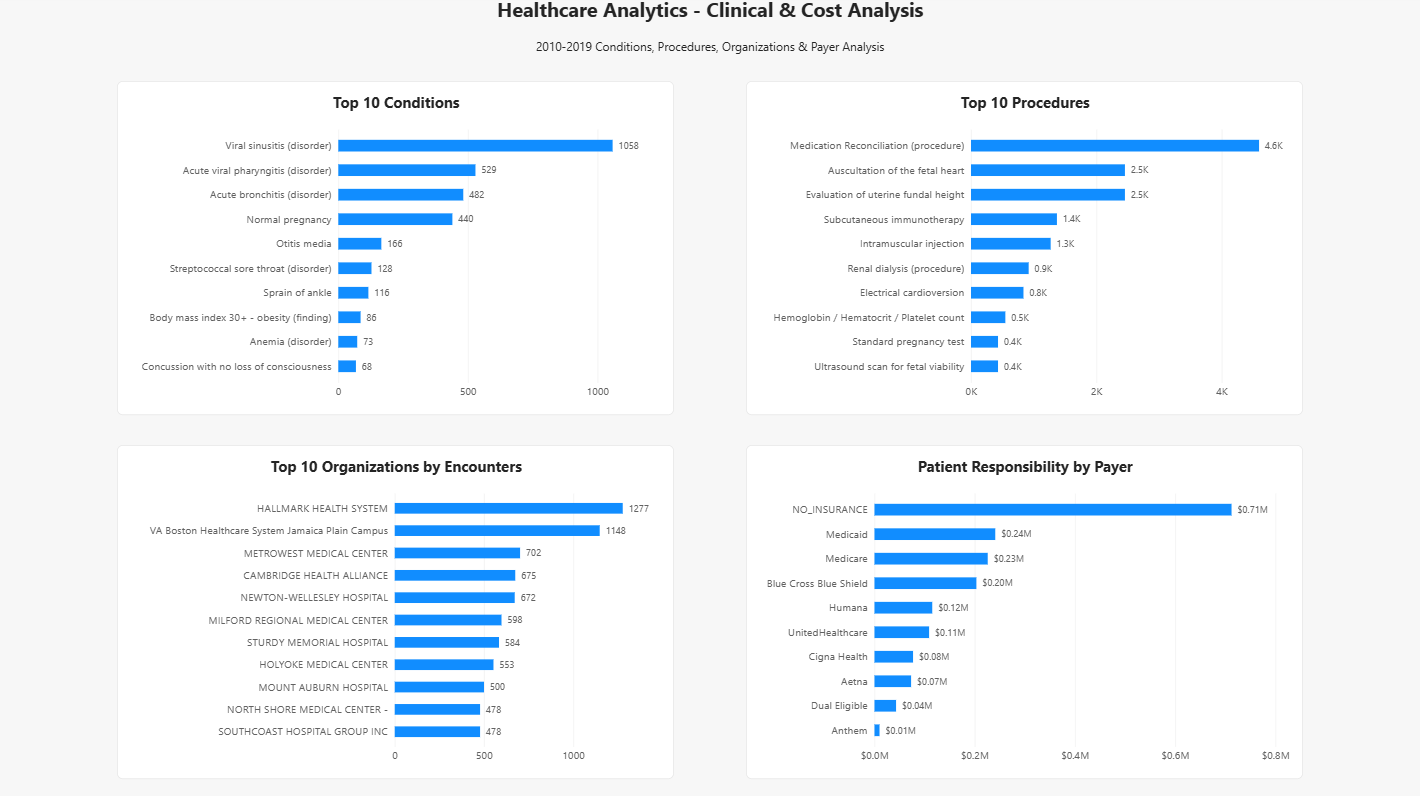

Layout of this report page (visuals, bound fields, positions):
{"tool":"powerbi","page":{"name":"Clinical & Cost Analysis","canvas":[1920,1080],"ordinal":1},"visuals":[{"type":"barChart","title":"Top 10 Conditions","fields":{"Category":["gold_condition_analysis.CONDITION"],"Y":["Sum(gold_condition_analysis.TOTAL_CONDITION_RECORDS)"]},"box":[162,115.8,750,450],"z":0},{"type":"barChart","title":"Top 10 Procedures","fields":{"Category":["gold_procedure_analysis.PROCEDURE"],"Y":["Sum(gold_procedure_analysis.TOTAL_PROCEDURES)"]},"box":[1008.1,115.8,750,450],"z":1000},{"type":"barChart","title":"Top 10 Organizations by Encounters","fields":{"Category":["gold_organization_performance.ORGANIZATION_NAME"],"Y":["Sum(gold_organization_performance.TOTAL_ENCOUNTERS)"]},"box":[162,605.6,750,450],"z":2000},{"type":"barChart","title":"Patient Responsibility by Payer","fields":{"Category":["gold_payer_performance.PAYER_NAME"],"Y":["Sum(gold_payer_performance.TOTAL_PATIENT_RESPONSIBILITY)"]},"box":[1008.1,605.6,750,450],"z":3000},{"type":"textbox","box":[536.9,0,846.1,57.9],"z":4000},{"type":"textbox","box":[536.9,57.9,846.1,57.9],"z":5000}]}

Visuals, with their boxes in screenshot pixels (x1, y1, x2, y2), scaled from the page's 1920x1080 canvas onto the 1420x796 screenshot:
"Top 10 Conditions" barChart: locate(120, 85, 674, 417)
"Top 10 Procedures" barChart: locate(746, 85, 1300, 417)
"Top 10 Organizations by Encounters" barChart: locate(120, 446, 674, 778)
"Patient Responsibility by Payer" barChart: locate(746, 446, 1300, 778)
textbox: locate(397, 0, 1023, 43)
textbox: locate(397, 43, 1023, 85)
